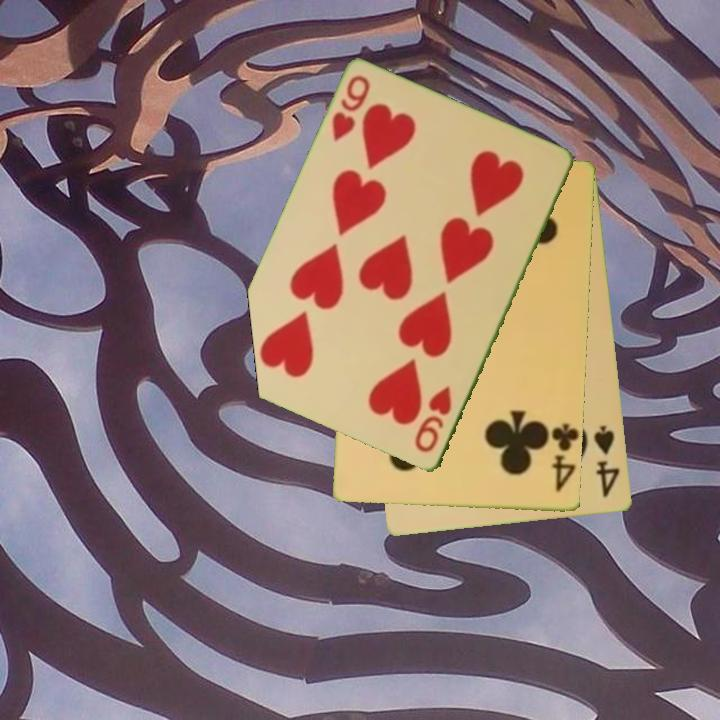4c: (548, 420, 580, 496)
4s: (591, 422, 623, 501)
9h: (328, 72, 374, 145), (411, 383, 455, 456)
